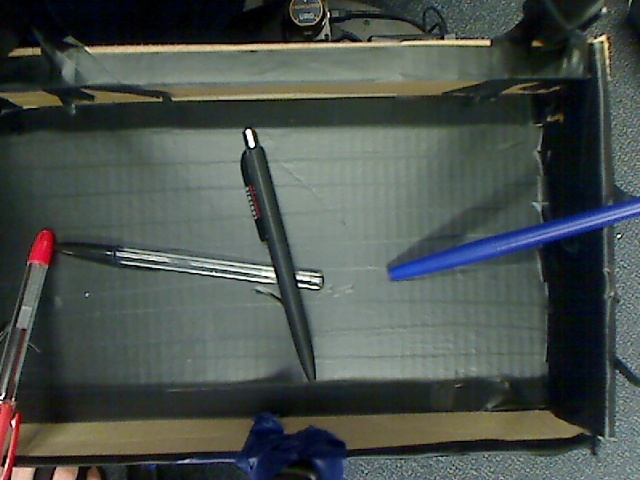pen: (210, 119, 352, 399), (45, 219, 340, 306), (373, 204, 640, 289), (1, 212, 54, 479)
